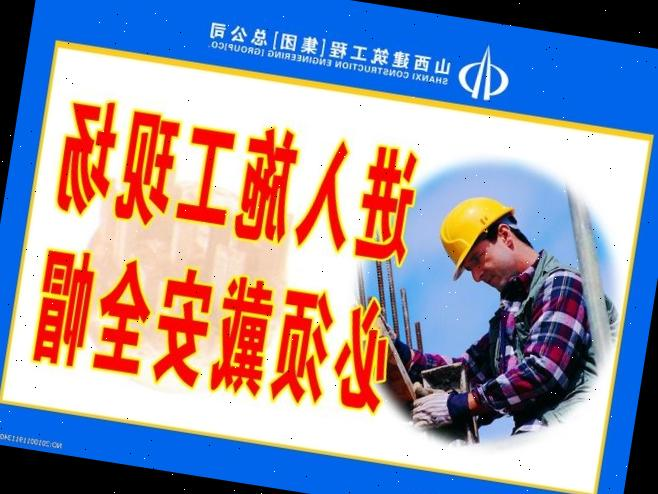helmet: (428, 184, 522, 292)
no_wear: (464, 264, 614, 427)
